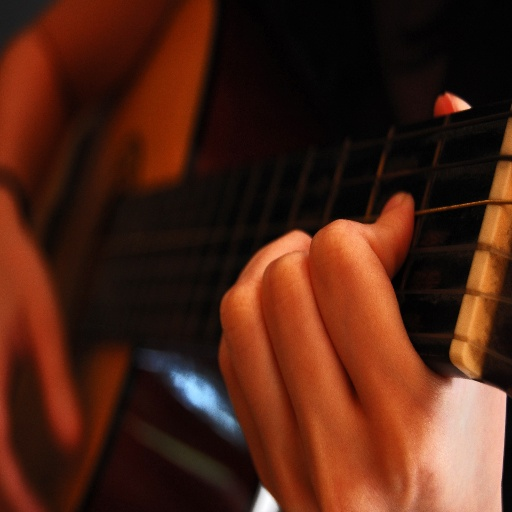hand: (220, 185, 498, 494), (0, 177, 85, 511)
